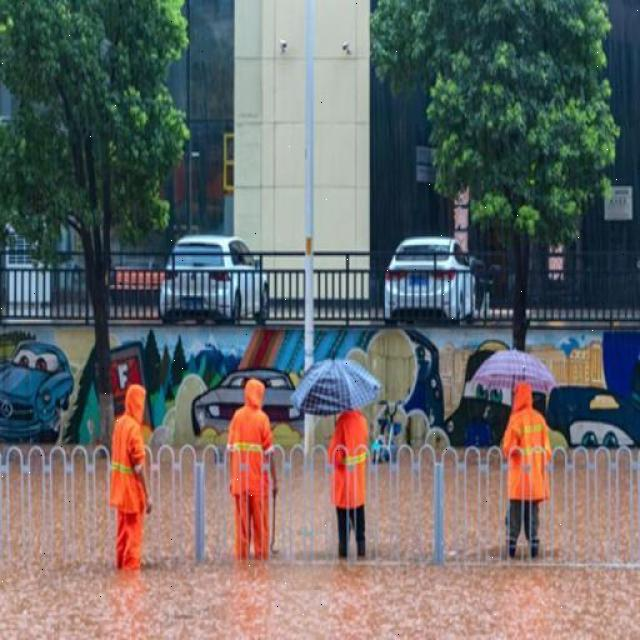rescuer: (495, 370, 557, 587), (100, 372, 159, 586), (230, 374, 279, 567), (326, 402, 384, 563)
